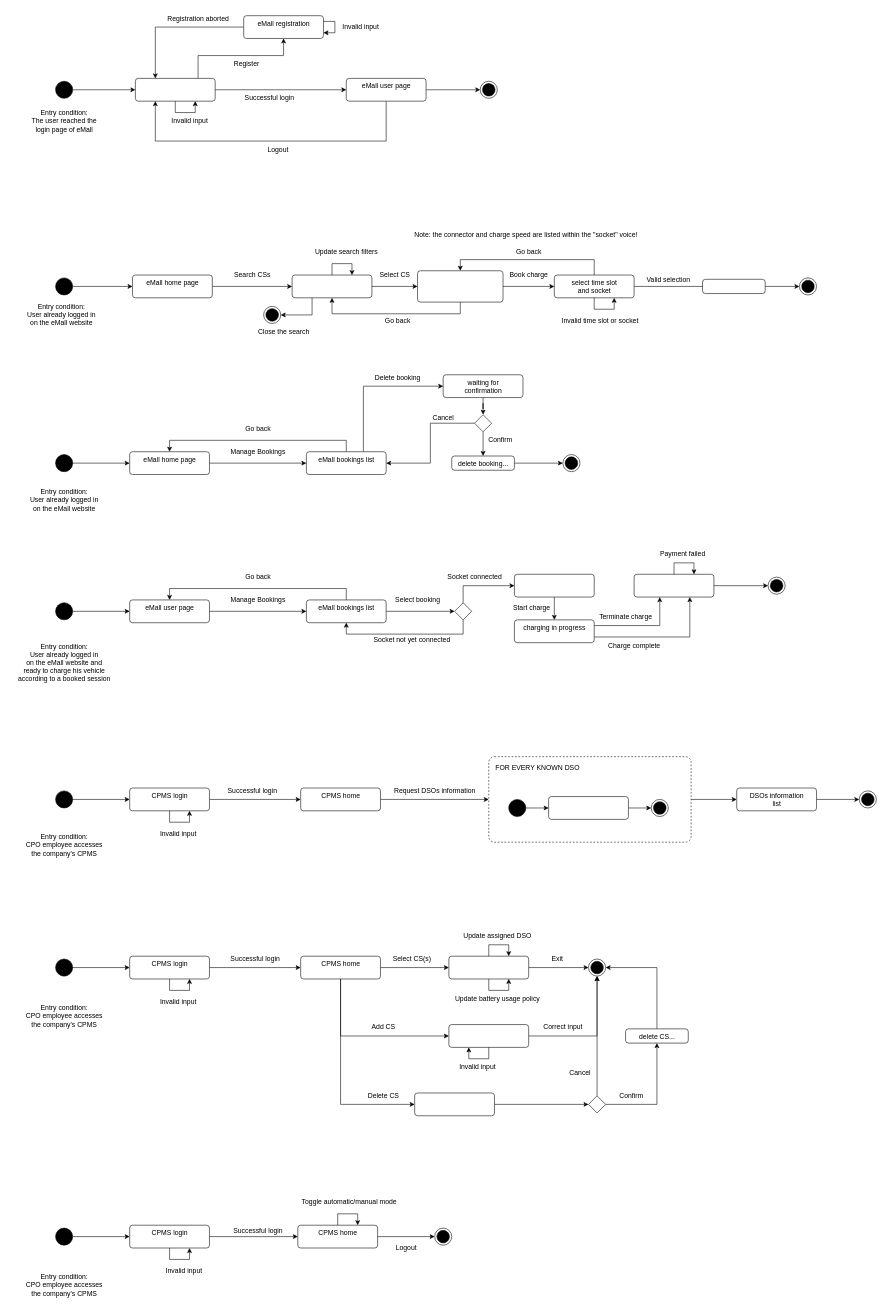
The diagram is 886 pixels wide and 1312 high, and some of its shapes have lost their labels. Here are the shapes that lost their labels. From the top down, the box of each, then its label:
(135, 78, 215, 101): eMall login
(292, 274, 372, 298): eMall CS list
(417, 270, 503, 302): eMall CS details (price, sockets, available time slots)
(702, 279, 765, 294): save booking...
(514, 574, 594, 597): manage booking
(634, 574, 714, 597): payment
(548, 796, 628, 819): acquire price and energy mix information
(448, 956, 529, 979): CS(s) information
(448, 1024, 529, 1047): Insert CS information
(414, 1092, 494, 1116): Confirm deletion
